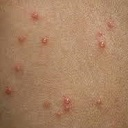Chickenpox: (55, 97, 74, 116), (3, 86, 14, 98), (29, 11, 41, 20), (40, 35, 51, 43), (17, 34, 28, 42), (97, 40, 106, 48), (14, 64, 22, 72)
